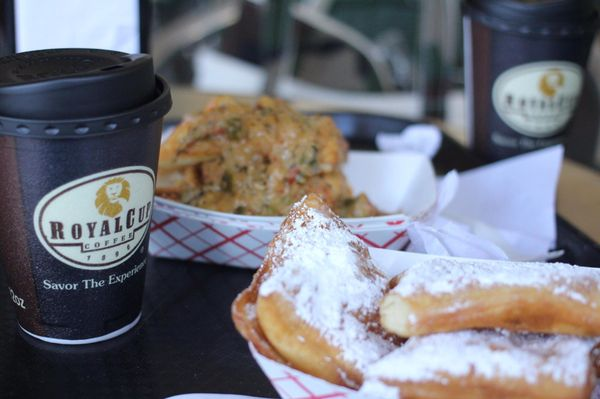pizza: (0, 49, 174, 350), (463, 1, 600, 170)
